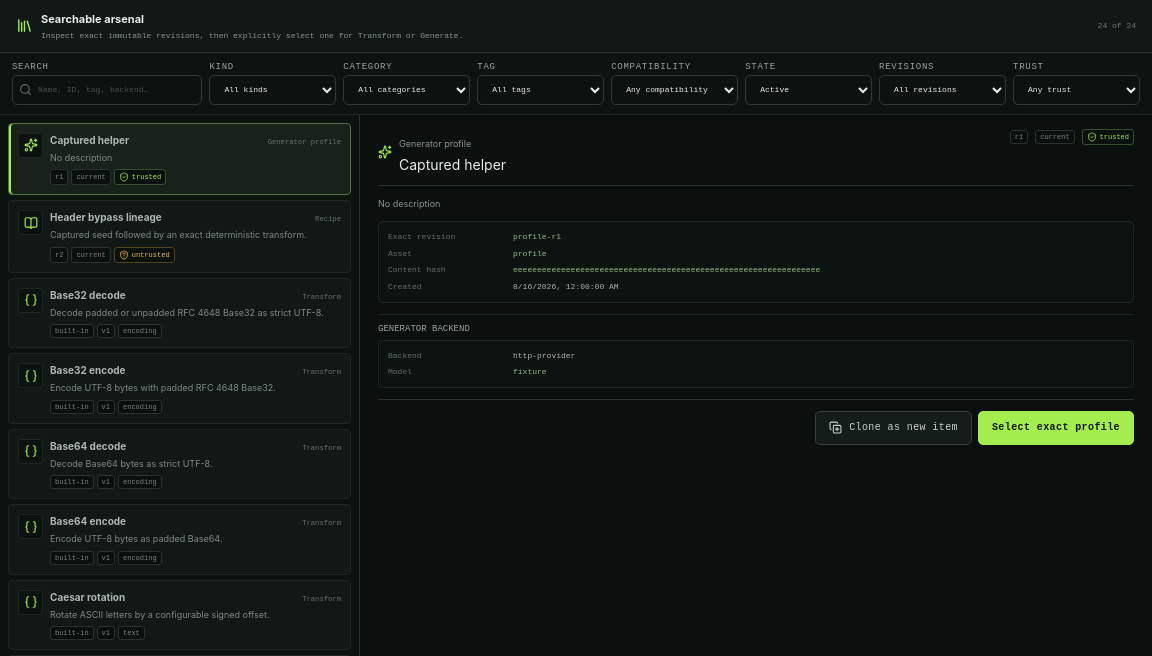
Test: payload recipes › previews untrusted recipes but requires explicit trust as a new exact revision before replay
Select "Recipes" in the dropdown labelled "Kind" at [273, 90], box [209,75,336,105]
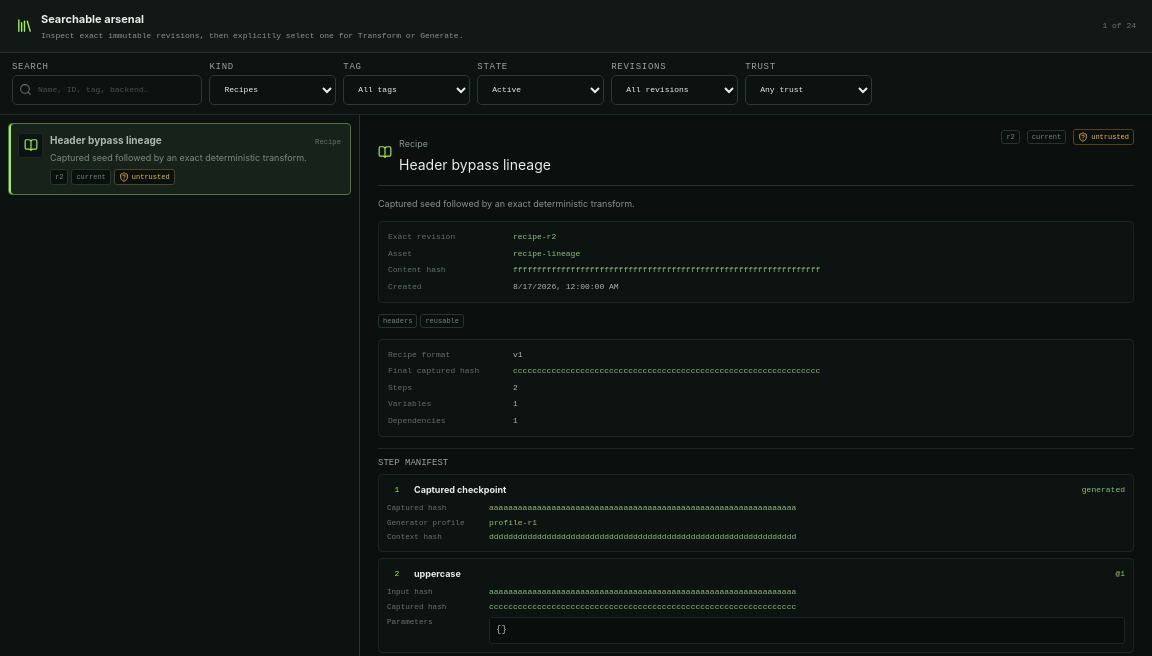
Click the button "Header bypass lineage" at [180, 159], box [8,123,351,195]
(page scrolled)
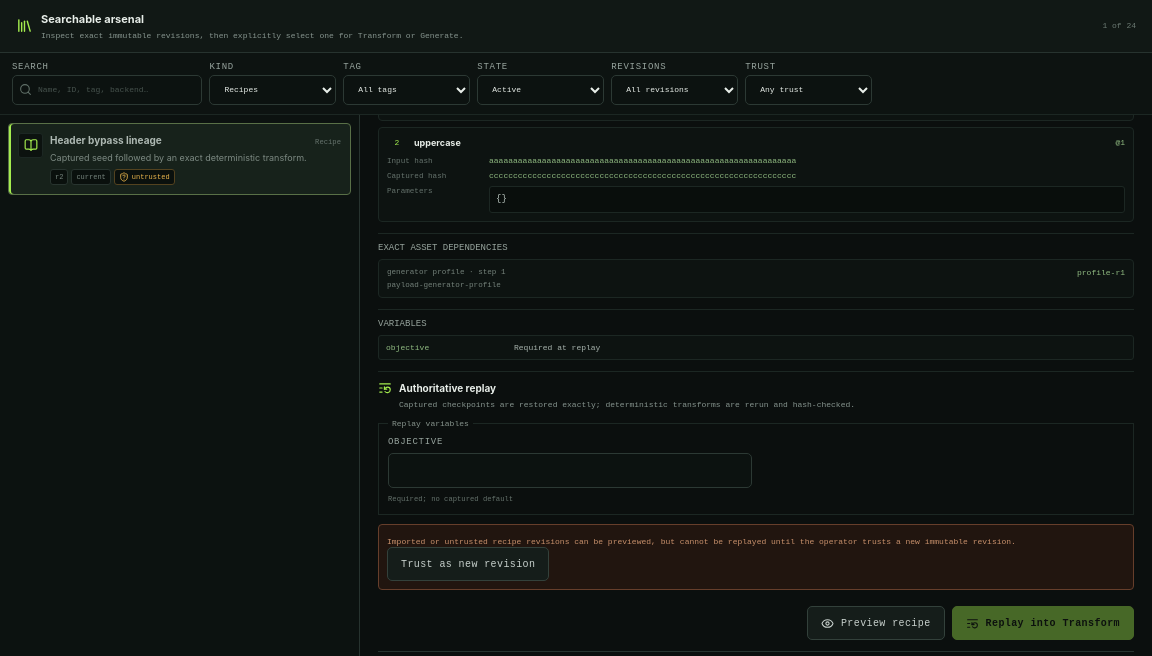
Now the button "Preview recipe" is enabled
Now the button "Replay into Transform" is disabled, box [952,606,1134,640]
Click the button "Preview recipe" at [876, 623], box [807,606,945,640]
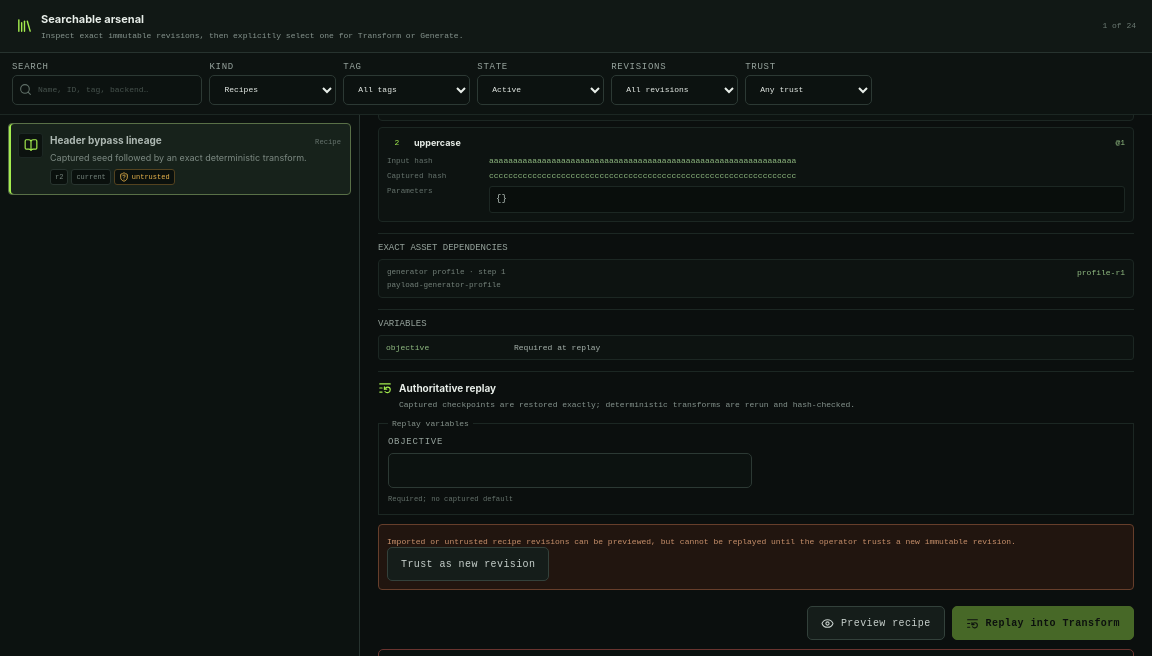
Click the button "Trust as new revision" at [468, 564], box [387,547,549,581]
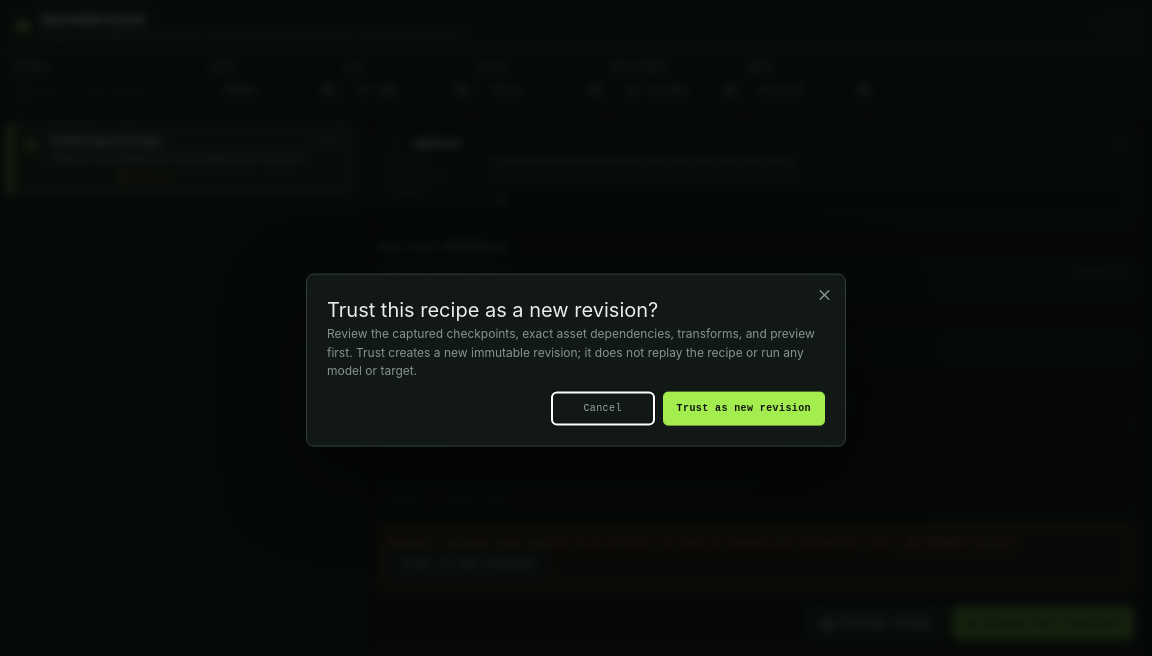
Click the button "Trust as new revision" at [744, 408], box [663,391,825,425]
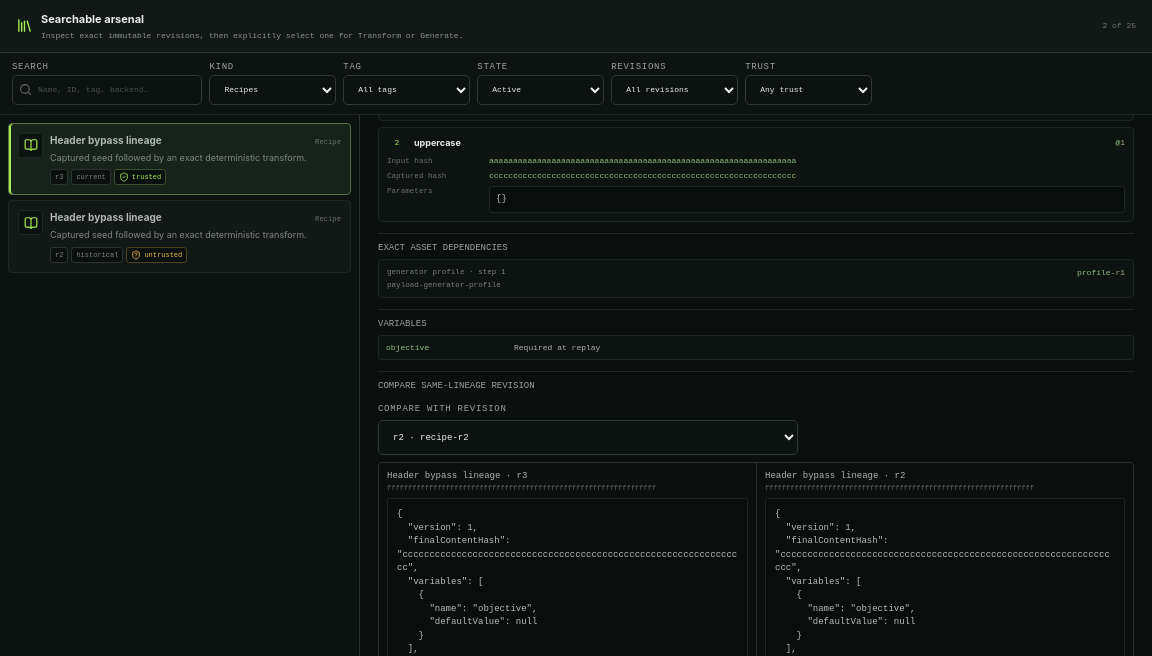
Now the text "r3" is shown, box [50,169,68,185]
